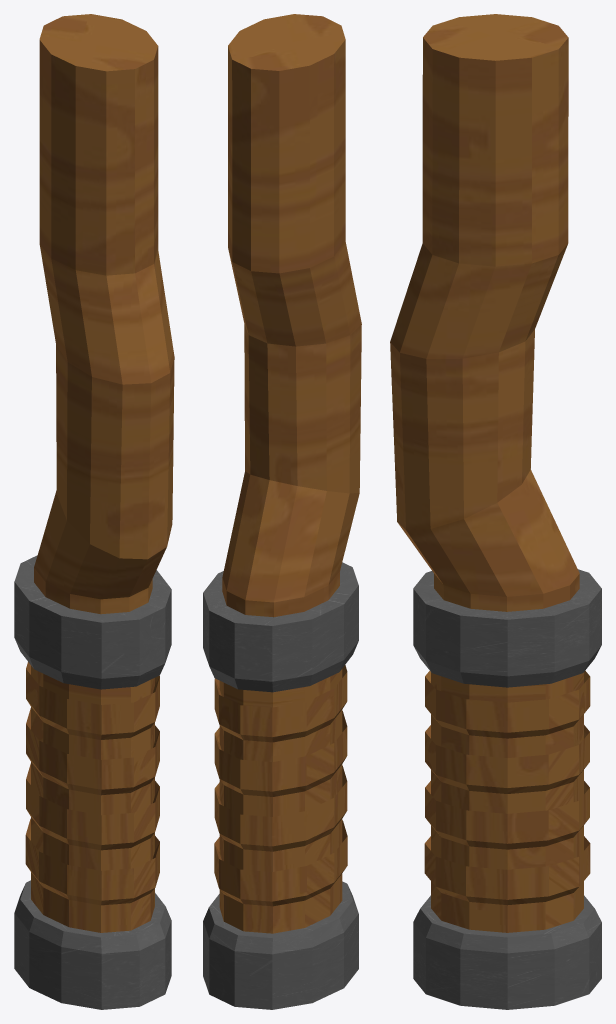
File: axe_holders_1_texture.fbx
The picture shows the model from 3 angles, left to right: view 1: azimuth 30°, elevation 25°; view 2: azimuth 150°, elevation 25°; view 3: azimuth 270°, elevation 25°; orthographic projection.
Visible parts, largest first — view 1: Cylinder, Cylinder.002, Cylinder.001, Cylinder.004; view 2: Cylinder, Cylinder.002, Cylinder.001, Cylinder.004; view 3: Cylinder, Cylinder.002, Cylinder.001, Cylinder.004.
Boxes of the visible parts, <box> form: Cylinder: <box>34,14,174,614</box>; Cylinder.002: <box>25,662,159,932</box>; Cylinder.001: <box>14,880,171,1009</box>; Cylinder.004: <box>14,555,171,689</box>; Cylinder: <box>222,14,361,617</box>; Cylinder.002: <box>214,665,347,933</box>; Cylinder.001: <box>203,881,358,1009</box>; Cylinder.004: <box>203,562,358,692</box>; Cylinder: <box>390,14,579,611</box>; Cylinder.002: <box>424,670,590,932</box>; Cylinder.001: <box>413,895,601,1009</box>; Cylinder.004: <box>413,569,601,687</box>.
Bounding box in the file's own units: 47.23 × 332 × 67.53.
Materials: 4 (4 with a texture image).
